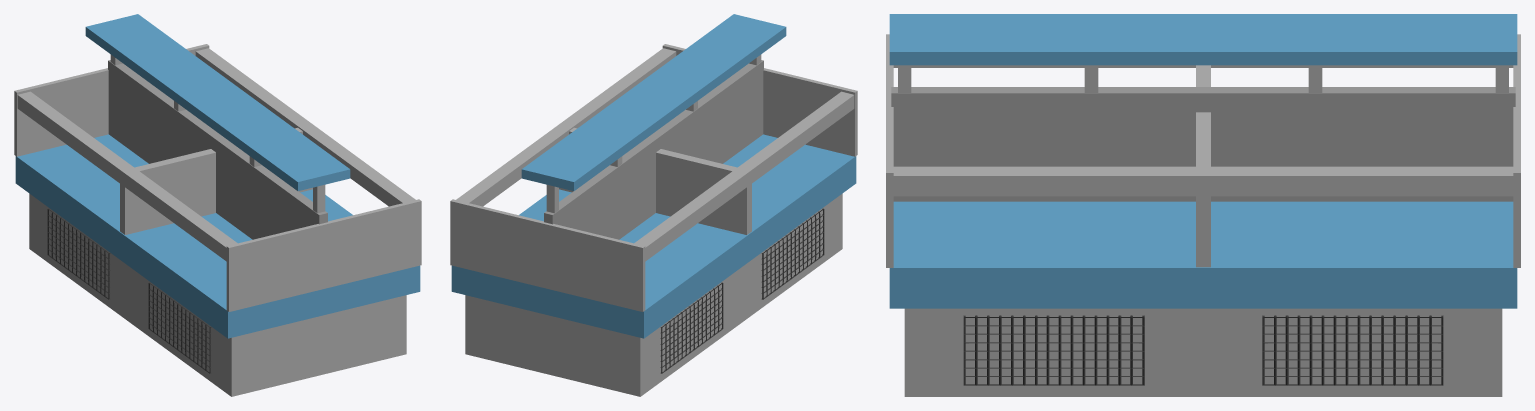
File: Freezer.fbx
3 renders of one model, left to right at view 1: azimuth 30°, elevation 25°; view 2: azimuth 150°, elevation 25°; view 3: azimuth 270°, elevation 25°, orthographic. The views are drawn at different scales.
Parts seen in each view (by area): view 1: Freezer; view 2: Freezer; view 3: Freezer.
Boxes of the visible parts, x1,y1,x2,y2 form: Freezer: (14,14,421,396); Freezer: (450,14,857,396); Freezer: (886,14,1520,396).
Size of the model in its own units: 245 by 243 by 469.
